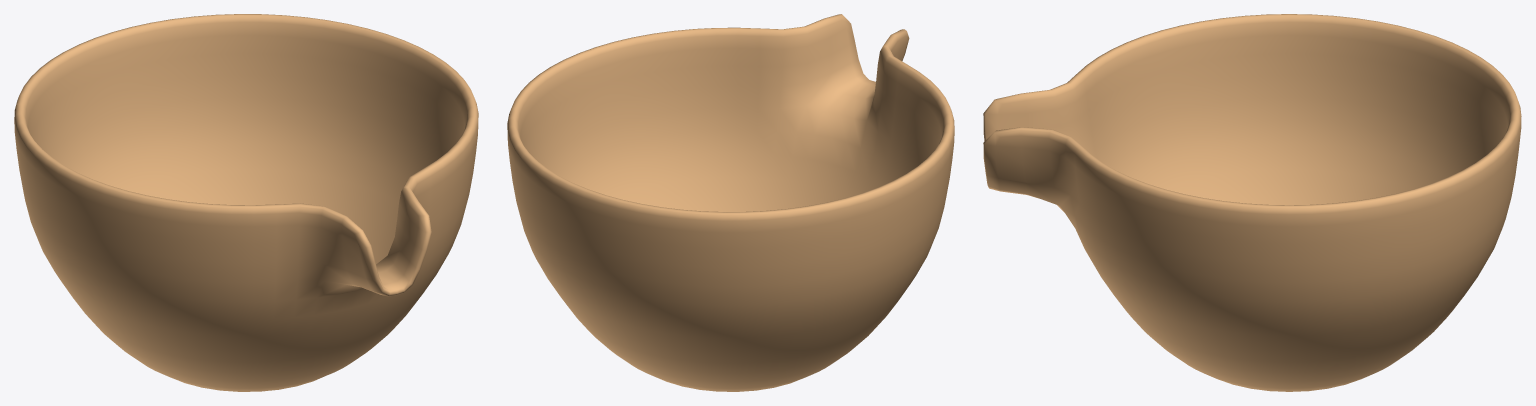
Rendered from Kase.fbx.
The picture shows the model from 3 angles, left to right: view 1: azimuth 30°, elevation 25°; view 2: azimuth 150°, elevation 25°; view 3: azimuth 270°, elevation 25°; orthographic projection. The views are drawn at different scales.
Visible parts, largest first — view 1: Kase; view 2: Kase; view 3: Kase.
Boxes of the visible parts, x1,y1,x2,y2 form: Kase: (14, 14, 478, 391); Kase: (507, 14, 954, 391); Kase: (983, 14, 1521, 391).
Size of the model in its own units: 3.35 by 2 by 3.89.
